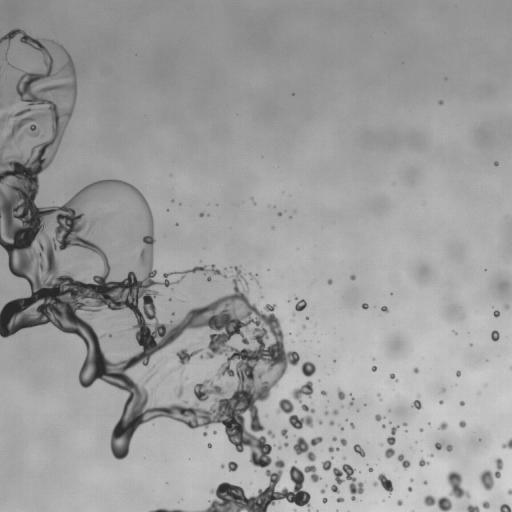droplet: (479, 457, 503, 490), (301, 361, 316, 377), (320, 456, 334, 471), (353, 444, 365, 457), (53, 56, 64, 67), (31, 102, 42, 113), (60, 131, 71, 142), (33, 196, 44, 207), (369, 298, 380, 309), (490, 318, 501, 329), (278, 320, 289, 331), (76, 346, 87, 357), (377, 366, 388, 377), (268, 388, 279, 399), (329, 396, 340, 407), (292, 405, 303, 416), (456, 408, 467, 419), (157, 415, 168, 426), (447, 419, 458, 430), (134, 424, 145, 435), (299, 426, 310, 437), (288, 427, 299, 438), (342, 428, 353, 439), (284, 447, 295, 458), (499, 448, 510, 459), (228, 449, 239, 460), (268, 449, 279, 460), (348, 454, 359, 465), (331, 457, 342, 468), (323, 470, 334, 481), (226, 473, 237, 484), (258, 477, 269, 488), (300, 480, 311, 491), (338, 481, 349, 492), (440, 484, 451, 495), (480, 489, 491, 500), (470, 495, 481, 506), (457, 496, 468, 507), (410, 399, 422, 409), (501, 437, 511, 449), (227, 461, 238, 471), (337, 387, 345, 400), (418, 457, 429, 466), (466, 504, 480, 511), (499, 503, 511, 511), (491, 330, 499, 341), (438, 421, 447, 430), (7, 116, 16, 125), (201, 257, 210, 266), (153, 273, 162, 282), (282, 343, 291, 352), (299, 374, 308, 383), (333, 414, 342, 423), (108, 418, 117, 427), (330, 426, 339, 435), (205, 433, 214, 442), (288, 436, 297, 445), (242, 445, 251, 454), (409, 458, 418, 467), (313, 459, 322, 468), (267, 462, 276, 471), (256, 465, 265, 474), (314, 466, 323, 475), (369, 471, 378, 480), (459, 480, 468, 489), (285, 481, 294, 490), (273, 483, 282, 492), (432, 490, 441, 499), (327, 491, 336, 500), (448, 494, 457, 503), (267, 429, 275, 438), (481, 501, 490, 509), (375, 414, 385, 421), (280, 428, 287, 438), (265, 505, 276, 511), (295, 505, 306, 511), (319, 505, 330, 511), (488, 505, 499, 511), (381, 305, 389, 313), (458, 420, 466, 427), (340, 438, 347, 446), (434, 442, 441, 450), (0, 129, 5, 140), (0, 246, 5, 257), (493, 310, 500, 317), (21, 101, 28, 108), (4, 126, 11, 133), (36, 172, 43, 179), (19, 277, 26, 284), (248, 280, 255, 287), (24, 290, 31, 297), (7, 294, 14, 301), (256, 304, 263, 311), (272, 309, 279, 316), (33, 324, 40, 331), (52, 326, 59, 333), (18, 327, 25, 334), (70, 332, 77, 339), (7, 333, 14, 340), (296, 359, 303, 366), (307, 374, 314, 381), (94, 377, 101, 384), (277, 378, 284, 385), (122, 390, 129, 397), (300, 393, 307, 400), (343, 395, 350, 402), (290, 398, 297, 405), (253, 399, 260, 406), (256, 410, 263, 417), (283, 412, 290, 419), (310, 412, 317, 419), (327, 413, 334, 420), (322, 416, 329, 423), (258, 417, 265, 424), (433, 419, 440, 426), (342, 421, 349, 428), (208, 422, 215, 429), (218, 423, 225, 430), (286, 424, 293, 431), (197, 425, 204, 432), (273, 428, 280, 435), (254, 430, 261, 437), (278, 435, 285, 442), (265, 437, 272, 444), (333, 440, 340, 447), (346, 441, 353, 448), (359, 442, 366, 449), (383, 442, 390, 449), (307, 444, 314, 451), (106, 450, 113, 457), (126, 450, 133, 457), (300, 451, 307, 458), (390, 454, 397, 461), (304, 459, 311, 466), (501, 460, 508, 467), (297, 463, 304, 470), (489, 465, 496, 472), (453, 466, 460, 473), (477, 466, 484, 473), (303, 471, 310, 478), (476, 481, 483, 488), (211, 482, 218, 489), (376, 483, 383, 490), (244, 491, 251, 498), (331, 491, 338, 498), (210, 493, 217, 500), (417, 495, 424, 502), (203, 501, 210, 508), (361, 303, 369, 309), (319, 390, 327, 396), (446, 444, 452, 452), (395, 506, 404, 511), (349, 422, 355, 429), (397, 499, 403, 506), (336, 497, 344, 502), (371, 365, 377, 371), (413, 367, 419, 373), (332, 409, 338, 415), (316, 419, 322, 425), (198, 212, 204, 217), (350, 274, 355, 280), (327, 279, 332, 285), (503, 304, 509, 309), (322, 497, 327, 503), (456, 370, 460, 377), (507, 488, 511, 495), (240, 507, 247, 511), (478, 507, 485, 511), (438, 100, 443, 105), (459, 401, 464, 406), (329, 420, 334, 425), (212, 429, 217, 434), (332, 436, 337, 441), (207, 443, 212, 448), (220, 463, 225, 468), (368, 466, 373, 471), (422, 480, 427, 485), (407, 486, 412, 491), (320, 488, 325, 493), (4, 28, 9, 33), (25, 30, 30, 35), (30, 33, 35, 38), (3, 38, 8, 43), (40, 40, 45, 45), (67, 49, 72, 54), (63, 57, 68, 62), (71, 57, 76, 62), (73, 63, 78, 68), (74, 67, 79, 72), (17, 71, 22, 76), (75, 72, 80, 77), (11, 81, 16, 86), (76, 86, 81, 91), (15, 94, 20, 99), (75, 94, 80, 99), (436, 95, 441, 100), (442, 99, 447, 104), (44, 102, 49, 107), (440, 103, 445, 108), (15, 107, 20, 112), (72, 107, 77, 112), (20, 113, 25, 118), (70, 113, 75, 118), (53, 154, 58, 159), (109, 174, 114, 179), (98, 175, 103, 180), (93, 176, 98, 181), (121, 176, 126, 181), (124, 177, 129, 182), (86, 179, 91, 184), (131, 181, 136, 186), (134, 183, 139, 188), (78, 184, 83, 189), (75, 186, 80, 191), (139, 188, 144, 193), (142, 192, 147, 197), (145, 197, 150, 202), (173, 199, 178, 204), (58, 201, 63, 206), (147, 201, 152, 206), (274, 207, 279, 212), (150, 209, 155, 214), (152, 218, 157, 223), (152, 233, 157, 238), (152, 241, 157, 246), (198, 262, 203, 267), (188, 264, 193, 269), (206, 264, 211, 269), (214, 264, 219, 269), (4, 265, 9, 270), (218, 266, 223, 271), (164, 268, 169, 273), (347, 270, 352, 275), (11, 274, 16, 279), (244, 274, 249, 279), (354, 275, 359, 280), (151, 276, 156, 281), (322, 279, 327, 284), (331, 279, 336, 284), (24, 281, 29, 286), (248, 299, 253, 304), (292, 299, 297, 304), (493, 305, 498, 310), (302, 307, 307, 312), (496, 315, 501, 320), (46, 321, 51, 326), (57, 329, 62, 334), (281, 329, 286, 334), (486, 334, 491, 339), (498, 334, 503, 339), (78, 338, 83, 343), (78, 360, 83, 365), (312, 360, 317, 365), (371, 360, 376, 365), (286, 362, 291, 367), (408, 367, 413, 372), (451, 369, 456, 374), (410, 371, 415, 376), (282, 372, 287, 377), (76, 382, 81, 387), (311, 384, 316, 389), (111, 385, 116, 390), (343, 390, 348, 395), (333, 393, 338, 398), (457, 396, 462, 401), (274, 402, 279, 407), (307, 403, 312, 408), (351, 404, 356, 409), (411, 406, 416, 411), (327, 407, 332, 412), (337, 407, 342, 412), (379, 411, 384, 416), (370, 415, 375, 420), (152, 417, 157, 422), (379, 418, 384, 423), (311, 419, 316, 424), (464, 419, 469, 424), (397, 420, 402, 425), (454, 422, 459, 427), (464, 423, 469, 428), (183, 424, 188, 429), (422, 424, 427, 429), (458, 426, 463, 431), (441, 428, 446, 433), (387, 432, 392, 437), (305, 438, 310, 443), (394, 438, 399, 443), (503, 438, 508, 443), (315, 442, 320, 447), (230, 443, 235, 448), (496, 443, 501, 448), (390, 444, 395, 449), (440, 445, 445, 450), (451, 445, 456, 450), (431, 446, 436, 451), (504, 446, 509, 451), (363, 448, 368, 453), (331, 450, 336, 455), (402, 455, 407, 460), (423, 456, 428, 461), (232, 457, 237, 462), (344, 459, 349, 464), (397, 460, 402, 465), (350, 463, 355, 468), (223, 464, 228, 469), (422, 464, 427, 469), (262, 465, 267, 470), (337, 465, 342, 470), (235, 466, 240, 471), (328, 467, 333, 472), (498, 468, 503, 473), (385, 474, 390, 479), (331, 479, 336, 484), (376, 480, 381, 485), (390, 481, 395, 486), (407, 481, 412, 486), (239, 483, 244, 488), (336, 483, 341, 488), (362, 483, 367, 488), (502, 488, 507, 493), (321, 492, 326, 497), (353, 492, 358, 497), (281, 497, 286, 502), (308, 497, 313, 502), (392, 498, 397, 503), (401, 499, 406, 504), (290, 501, 295, 506), (337, 501, 342, 506), (158, 504, 163, 509), (174, 504, 179, 509), (395, 504, 400, 509), (398, 504, 403, 509), (440, 388, 446, 392), (427, 453, 433, 457), (0, 30, 3, 37), (0, 53, 3, 60), (0, 303, 3, 310), (494, 161, 498, 166), (277, 212, 282, 216), (301, 324, 305, 329), (324, 411, 329, 415), (402, 422, 407, 426), (381, 424, 386, 428), (168, 297, 172, 301), (439, 400, 443, 404), (379, 442, 383, 446), (342, 456, 346, 460), (409, 478, 413, 482), (170, 287, 173, 292), (508, 305, 511, 310), (508, 484, 511, 489), (508, 503, 511, 508), (463, 508, 468, 511), (495, 508, 500, 511), (175, 222, 178, 226), (259, 295, 263, 298), (286, 299, 290, 302), (305, 316, 309, 319), (469, 343, 473, 346), (419, 428, 423, 431), (293, 508, 297, 511), (509, 365, 511, 370), (0, 113, 2, 118), (0, 334, 2, 339), (171, 199, 174, 202), (166, 208, 169, 211), (207, 213, 210, 216), (271, 226, 274, 229), (484, 268, 487, 271), (390, 292, 393, 295), (372, 357, 375, 360), (377, 393, 380, 396), (417, 394, 420, 397), (379, 398, 382, 401), (363, 403, 366, 406), (356, 409, 359, 412), (388, 409, 391, 412), (265, 414, 268, 417), (345, 418, 348, 421), (388, 421, 391, 424), (478, 438, 481, 441), (414, 440, 417, 443), (249, 482, 252, 485), (53, 38, 56, 41), (58, 41, 61, 44), (63, 45, 66, 48), (2, 53, 5, 56), (50, 54, 53, 57), (3, 60, 6, 63), (7, 64, 10, 67), (0, 66, 3, 69), (11, 67, 14, 70), (2, 84, 5, 87), (291, 89, 294, 92), (288, 92, 291, 95), (291, 95, 294, 98), (436, 103, 439, 106), (493, 158, 496, 161), (497, 161, 500, 164), (491, 163, 494, 166), (495, 165, 498, 168), (103, 176, 106, 179), (169, 196, 172, 199), (253, 198, 256, 201), (248, 199, 251, 202), (269, 204, 272, 207), (163, 207, 166, 210), (168, 207, 171, 210), (199, 209, 202, 212), (164, 210, 167, 213), (280, 210, 283, 213), (203, 212, 206, 215), (288, 212, 291, 215), (277, 215, 280, 218), (176, 219, 179, 222), (172, 221, 175, 224), (178, 222, 181, 225), (175, 225, 178, 228), (212, 261, 215, 264), (265, 265, 268, 268), (483, 265, 486, 268), (227, 267, 230, 270), (178, 268, 181, 271), (255, 270, 258, 273), (484, 270, 487, 273), (240, 271, 243, 274), (251, 271, 254, 274), (254, 275, 257, 278), (351, 279, 354, 282), (258, 281, 261, 284), (387, 290, 390, 293), (260, 292, 263, 295), (387, 293, 390, 296), (291, 295, 294, 298), (286, 296, 289, 299), (296, 298, 299, 301), (304, 298, 307, 301), (361, 300, 364, 303), (364, 300, 367, 303), (269, 302, 272, 305), (378, 305, 381, 308), (386, 305, 389, 308), (366, 307, 369, 310), (362, 308, 365, 311), (491, 308, 494, 311), (380, 310, 383, 313), (499, 312, 502, 315), (490, 313, 493, 316), (308, 316, 311, 319), (305, 319, 308, 322), (298, 324, 301, 327), (493, 327, 496, 330), (299, 328, 302, 331), (454, 328, 457, 331), (497, 329, 500, 332), (291, 331, 294, 334), (451, 331, 454, 334), (497, 338, 500, 341), (468, 339, 471, 342), (493, 340, 496, 343), (466, 343, 469, 346), (472, 343, 475, 346), (316, 351, 319, 354), (297, 352, 300, 355), (319, 354, 322, 357), (331, 356, 334, 359), (329, 359, 332, 362), (335, 359, 338, 362), (417, 367, 420, 370), (375, 368, 378, 371), (369, 369, 372, 372), (390, 370, 393, 373), (460, 371, 463, 374), (453, 373, 456, 376), (386, 374, 389, 377), (459, 374, 462, 377), (323, 388, 326, 391), (319, 393, 322, 396), (351, 393, 354, 396), (378, 395, 381, 398), (417, 397, 420, 400), (438, 397, 441, 400), (352, 399, 355, 402), (442, 399, 445, 402), (463, 399, 466, 402), (362, 400, 365, 403), (456, 401, 459, 404), (436, 402, 439, 405), (440, 403, 443, 406), (362, 405, 365, 408), (460, 405, 463, 408), (419, 407, 422, 410), (322, 408, 325, 411), (347, 419, 350, 422), (403, 419, 406, 422), (425, 419, 428, 422), (352, 421, 355, 424), (430, 421, 433, 424), (340, 423, 343, 426), (420, 425, 423, 428), (337, 426, 340, 429), (416, 428, 419, 431), (407, 429, 410, 432), (285, 431, 288, 434), (419, 431, 422, 434), (329, 435, 332, 438), (479, 435, 482, 438), (475, 436, 478, 439), (480, 439, 483, 442), (352, 442, 355, 445), (204, 443, 207, 446), (211, 444, 214, 447), (281, 444, 284, 447), (208, 447, 211, 450), (450, 449, 453, 452), (427, 451, 430, 454), (364, 452, 367, 455), (217, 463, 220, 466), (411, 475, 414, 478), (421, 478, 424, 481), (426, 479, 429, 482), (422, 483, 425, 486), (411, 487, 414, 490), (405, 488, 408, 491), (390, 490, 393, 493), (319, 498, 322, 501), (326, 499, 329, 502), (352, 499, 355, 502), (320, 501, 323, 504), (444, 77, 447, 79), (289, 216, 292, 218), (291, 339, 293, 342), (333, 359, 335, 362), (428, 422, 430, 425), (404, 430, 407, 432), (294, 460, 296, 463), (359, 470, 361, 473), (325, 484, 327, 487), (382, 499, 385, 501), (318, 509, 321, 511), (332, 509, 335, 511), (292, 93, 294, 95), (169, 174, 171, 176), (179, 203, 181, 205), (273, 205, 275, 207), (199, 260, 201, 262), (289, 332, 291, 334), (318, 379, 320, 381), (341, 405, 343, 407), (152, 423, 154, 425), (366, 463, 368, 465), (316, 509, 318, 511), (336, 509, 338, 511), (0, 144, 1, 147), (0, 149, 1, 152), (216, 204, 218, 205), (294, 210, 295, 212), (486, 359, 487, 361), (325, 406, 327, 407), (492, 307, 493, 308), (327, 400, 328, 401)
ligament: (0, 108, 32, 127), (384, 424, 399, 458), (397, 454, 410, 470), (348, 392, 354, 407), (328, 446, 339, 452), (249, 196, 256, 205), (337, 423, 343, 431), (452, 330, 457, 335), (0, 63, 2, 69), (346, 510, 350, 511), (411, 510, 414, 511)
